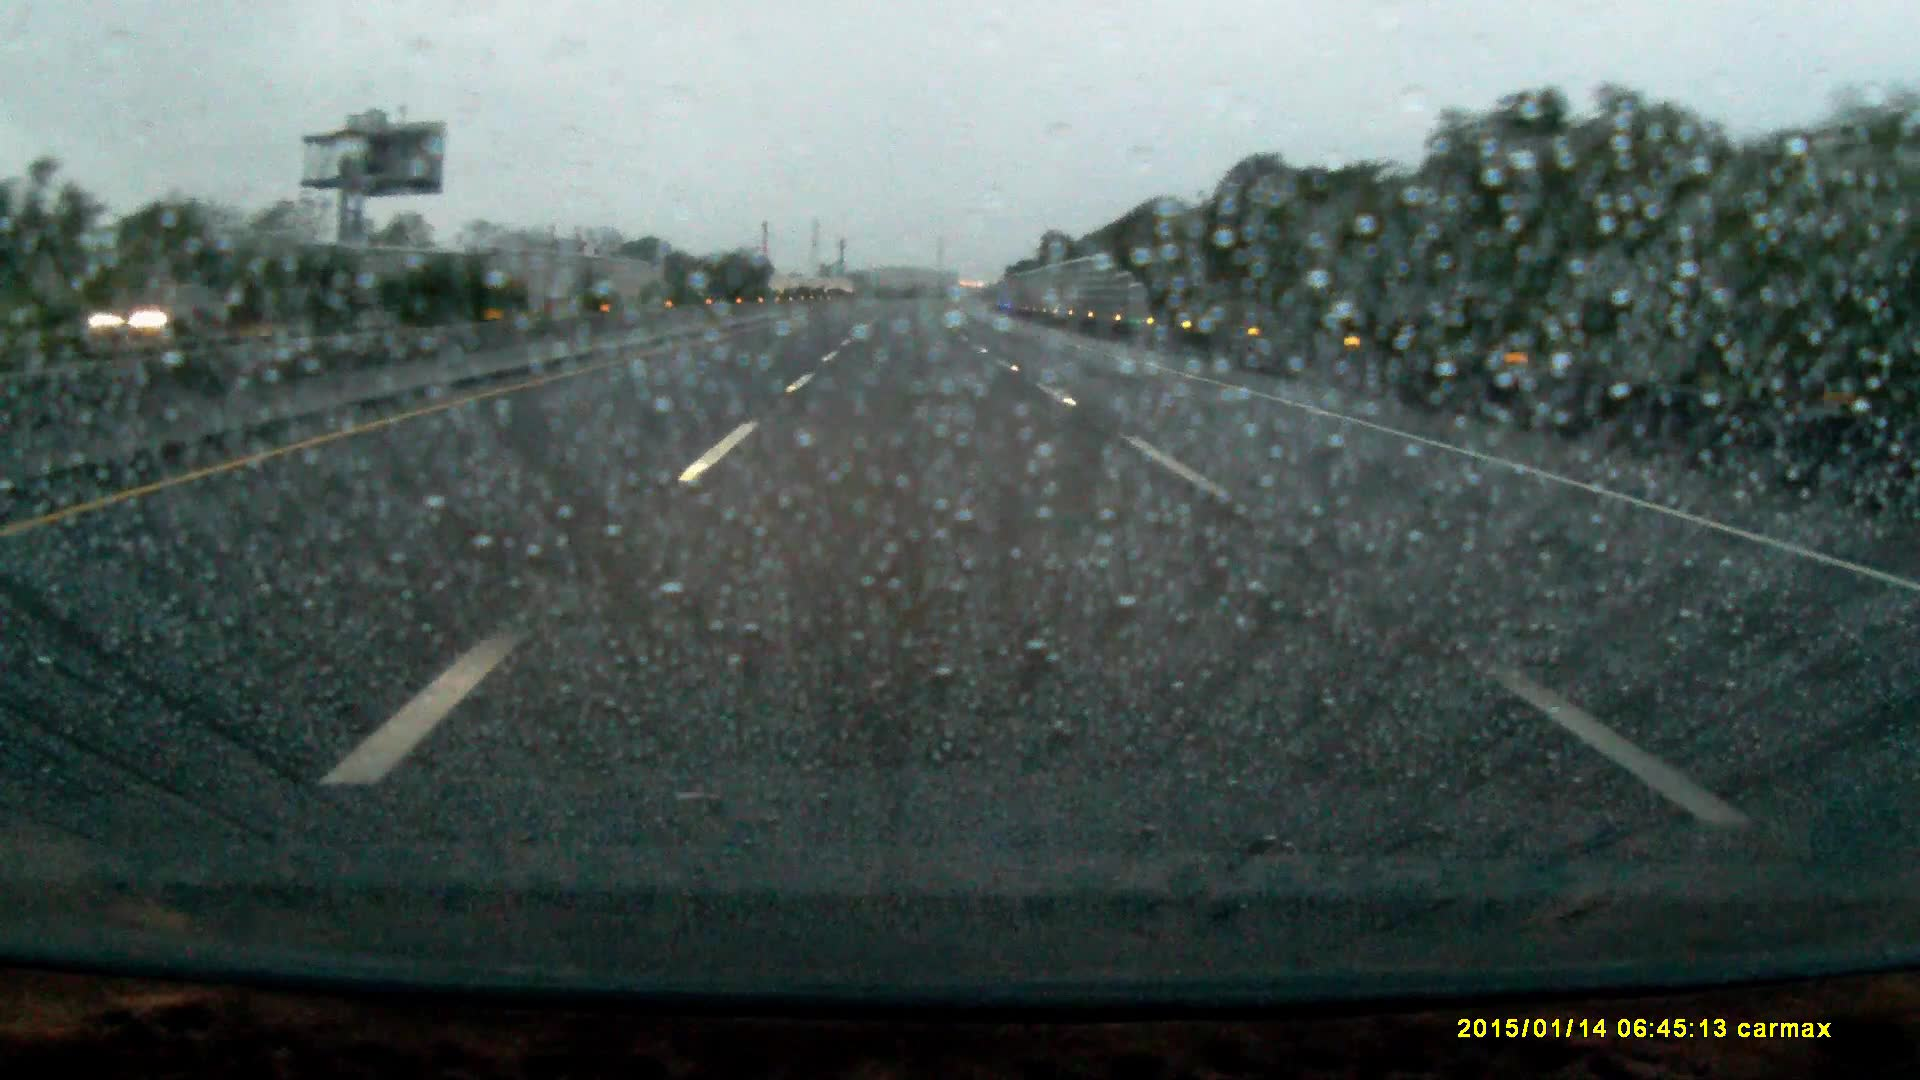vehicle: (83, 280, 222, 342)
